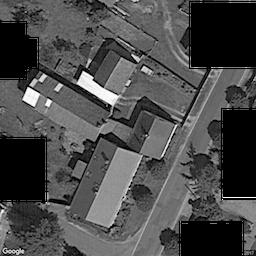roofs: (69, 137, 141, 228), (22, 72, 108, 140), (127, 112, 173, 158), (94, 51, 136, 95)
